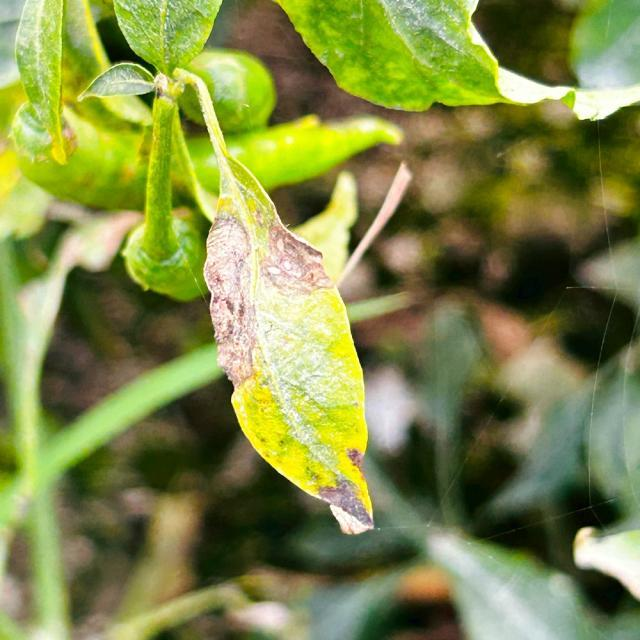Bercak Daun Serkospora: (200, 155, 376, 535)
